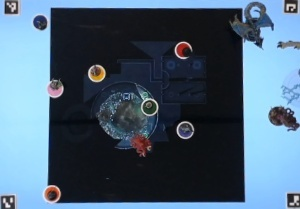blue: (30, 12, 48, 32)
green: (139, 96, 158, 117)
orange: (41, 182, 63, 203)
pink: (42, 77, 62, 100)
red: (169, 37, 191, 61)
violet: (174, 118, 194, 141)
yellow: (84, 62, 105, 85)
